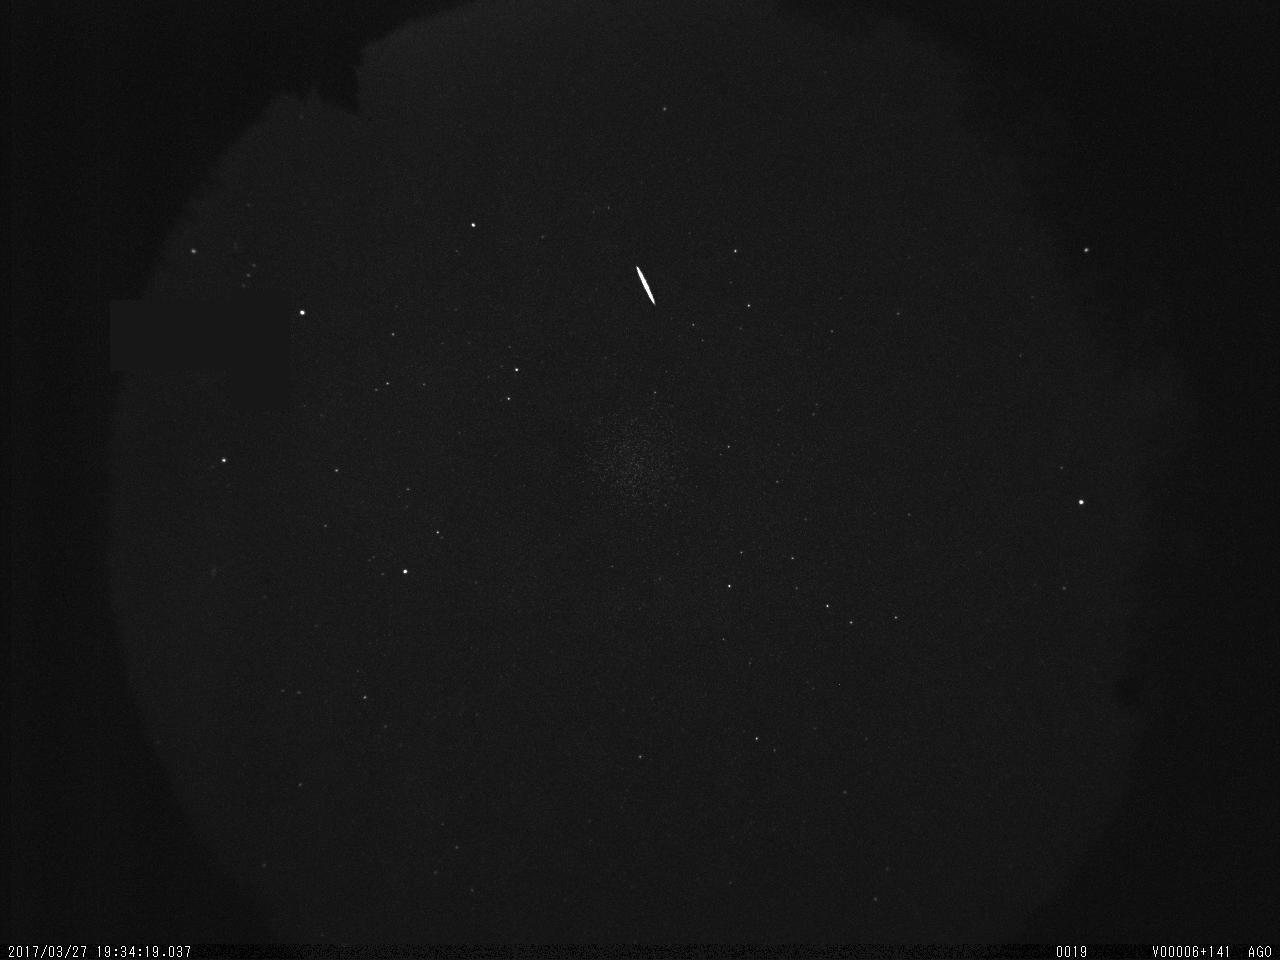meteor: (630, 259, 663, 312)
